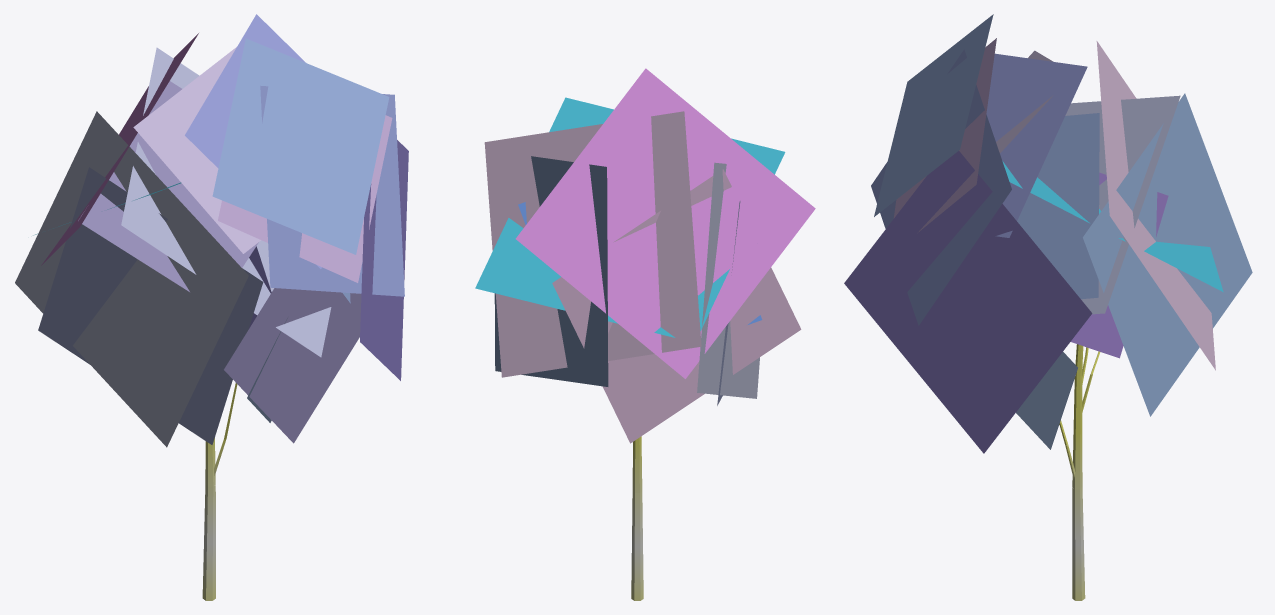
File: tree_aspen_0.glb
The picture shows the model from 3 angles, left to right: view 1: azimuth 30°, elevation 25°; view 2: azimuth 150°, elevation 25°; view 3: azimuth 270°, elevation 25°; orthographic projection. The views are drawn at different scales.
Parts seen in each view (by area): view 1: tree_aspen_0; view 2: tree_aspen_0; view 3: tree_aspen_0.
Boxes of the visible parts, box(x1,y1,x2,y2) form: tree_aspen_0: box(15, 14, 408, 600); tree_aspen_0: box(475, 68, 815, 600); tree_aspen_0: box(844, 14, 1252, 600).
Size of the model in its own units: 7.61 by 11.78 by 7.66.
